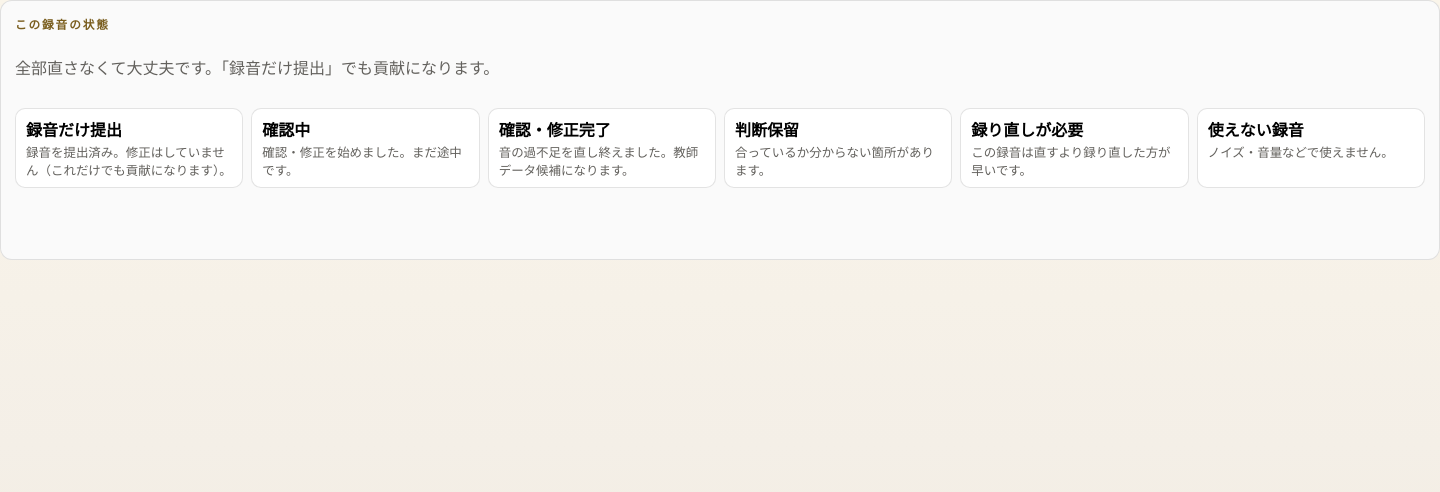
ReviewStatusPanel › saves the chosen status and updates the active selection
The image size is (1440, 492).
Click the button "確認・修正完了 音の過不足を直し終えました。教師データ候補になります。" at (602, 148), box [488, 108, 716, 188]
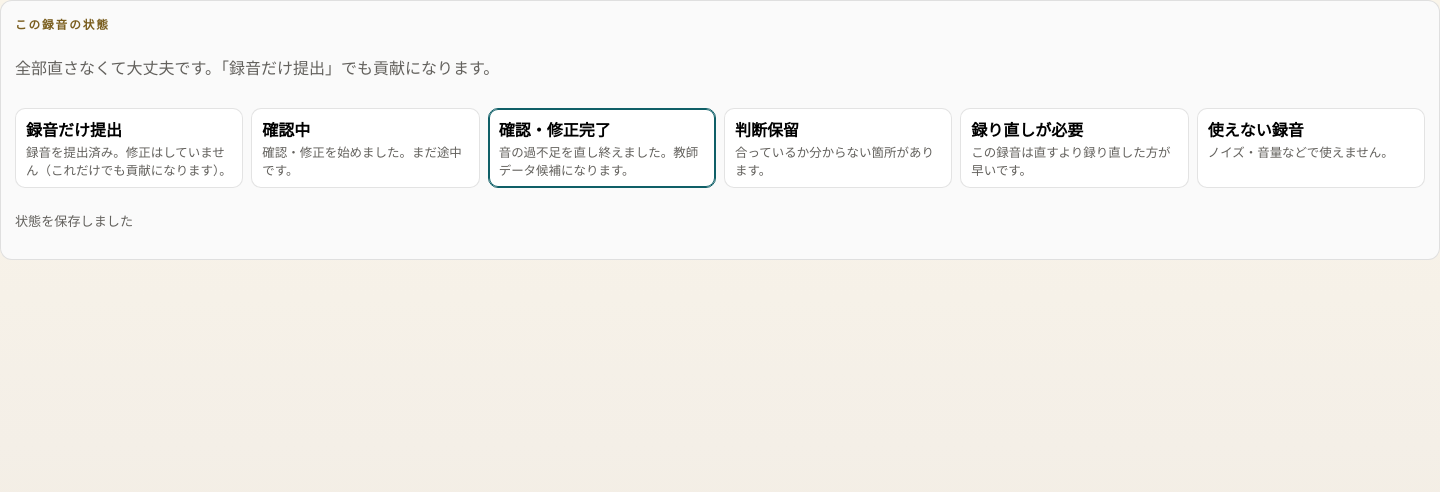
Now the message reads "状態を保存しました", box [15, 212, 133, 230]
